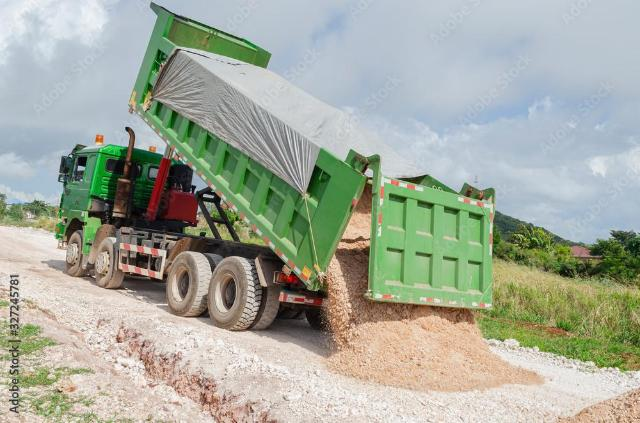truck: (21, 3, 511, 354)
